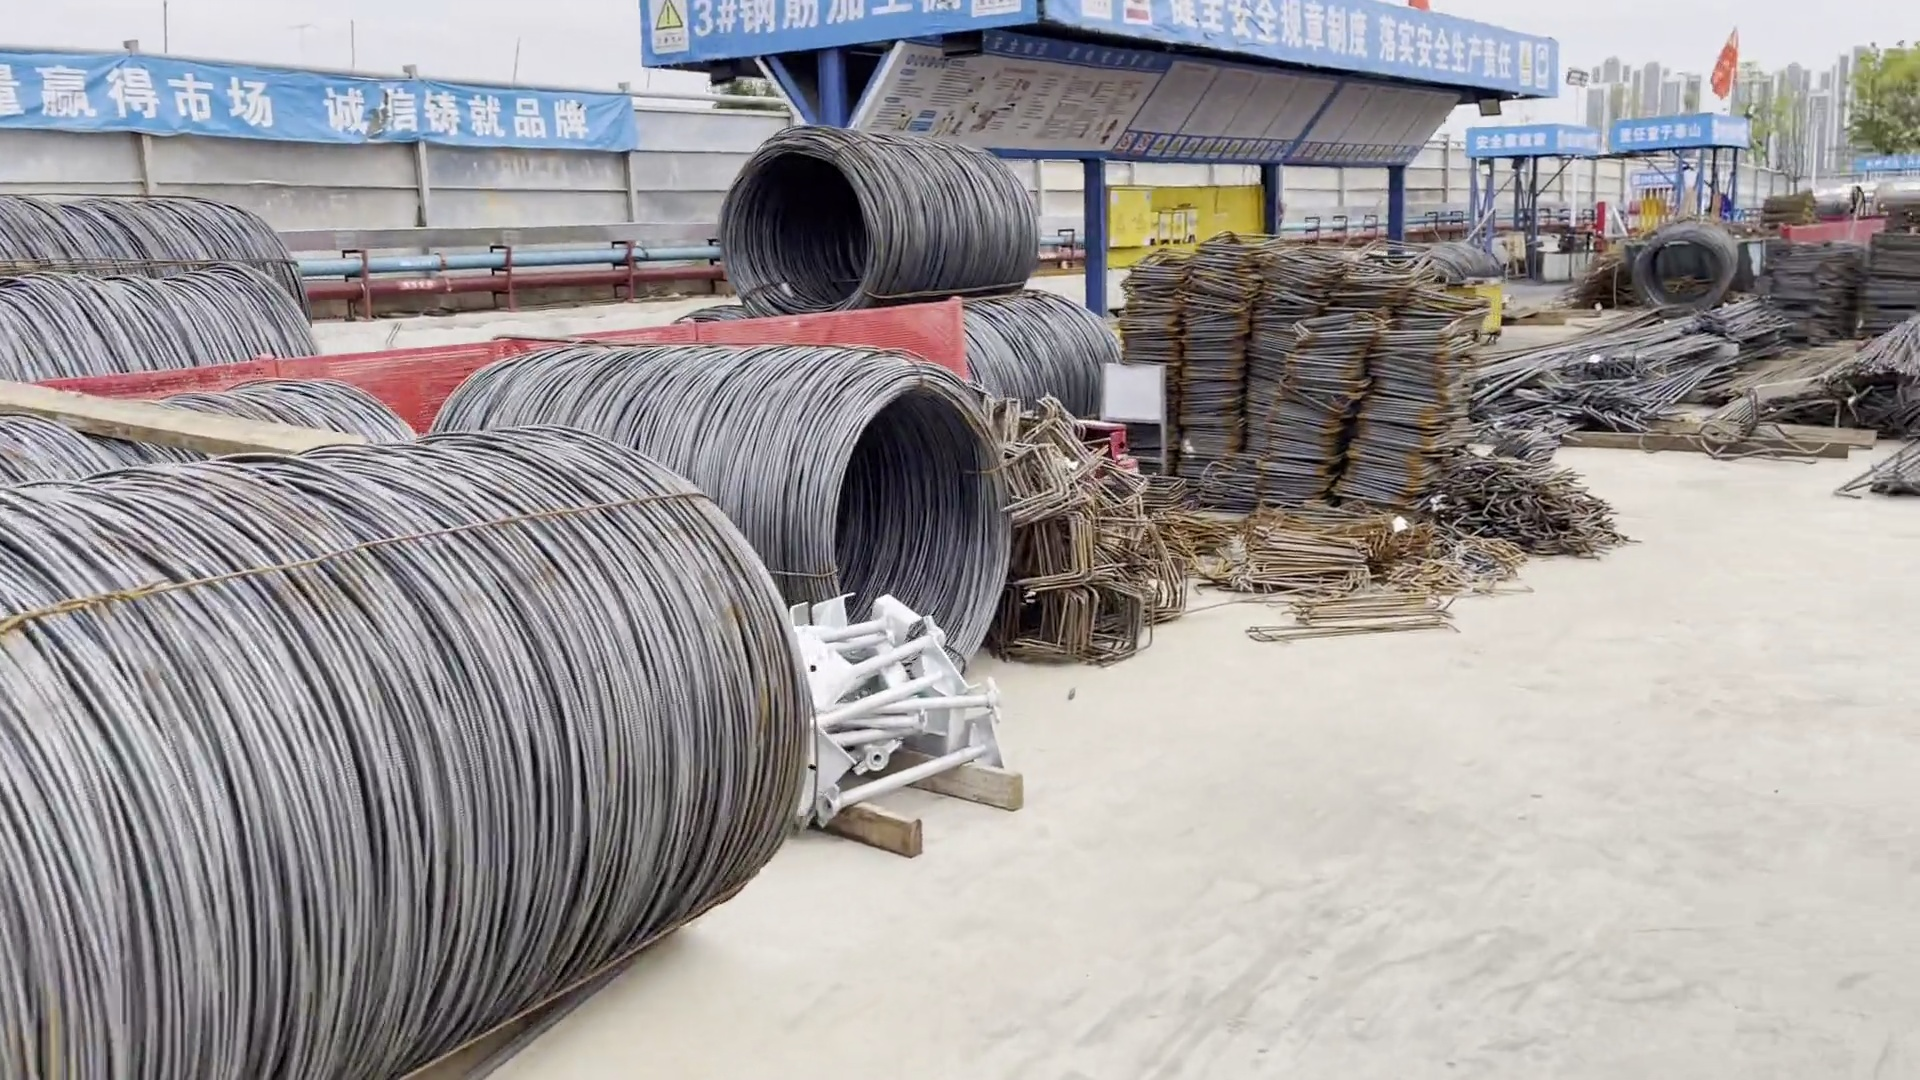ebox: (1112, 178, 1162, 256)
rebar: (1472, 301, 1791, 423)
slogan: (1, 50, 591, 153)
